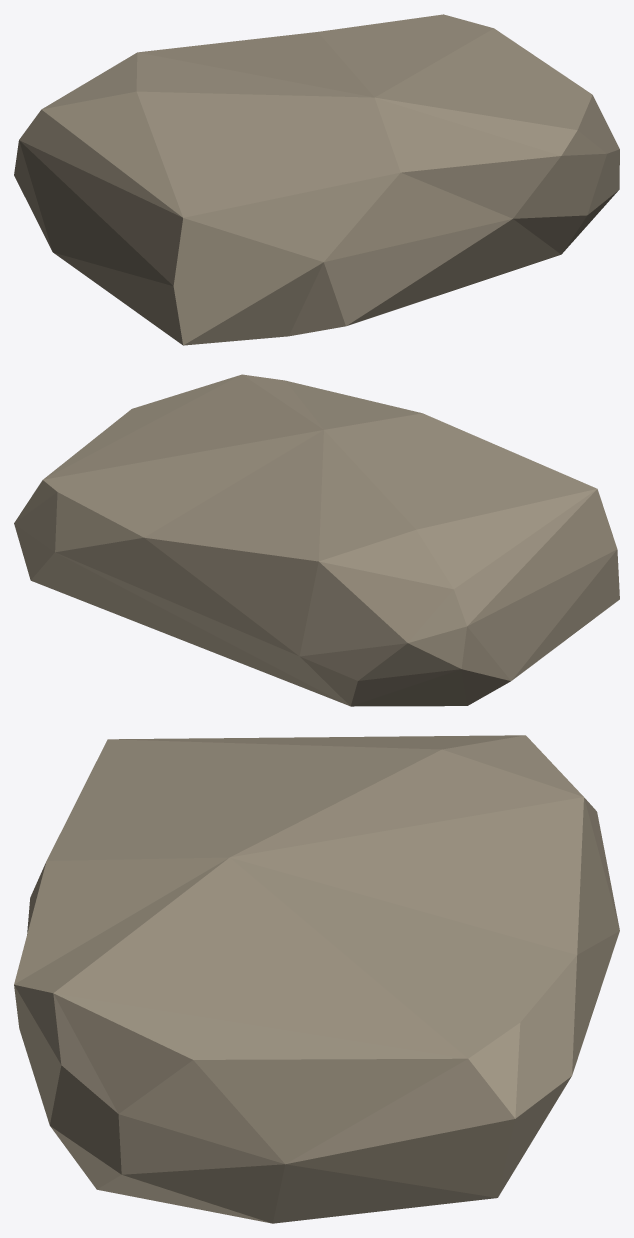
The model's file is SM_Prop_Brick_02.glb.
3 renders of one model, top to bottom at view 1: azimuth 30°, elevation 25°; view 2: azimuth 150°, elevation 25°; view 3: azimuth 270°, elevation 25°, orthographic. The views are drawn at different scales.
Parts seen in each view (by area): view 1: SM_Prop_Brick_02; view 2: SM_Prop_Brick_02; view 3: SM_Prop_Brick_02.
Part boxes in pixels (box(x1,y1,x2,y2)): SM_Prop_Brick_02: box(14, 14, 619, 345); SM_Prop_Brick_02: box(14, 374, 619, 706); SM_Prop_Brick_02: box(14, 735, 619, 1223).
Size of the model in its own units: 0.5225 by 0.1705 by 0.3946.
1 material, 1 textured.
